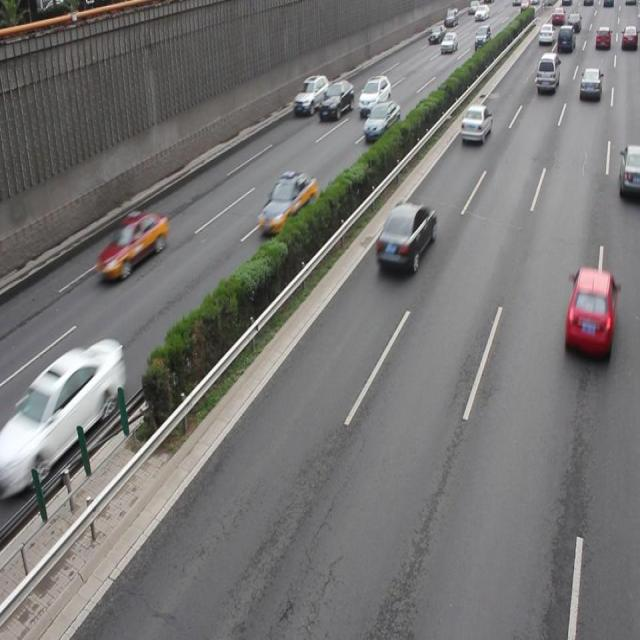car: (14, 338, 124, 485), (563, 266, 617, 360), (96, 210, 167, 281), (375, 200, 436, 275), (256, 170, 316, 233), (317, 78, 354, 121), (292, 72, 329, 115), (459, 103, 492, 146), (363, 102, 400, 140), (616, 143, 640, 197)
